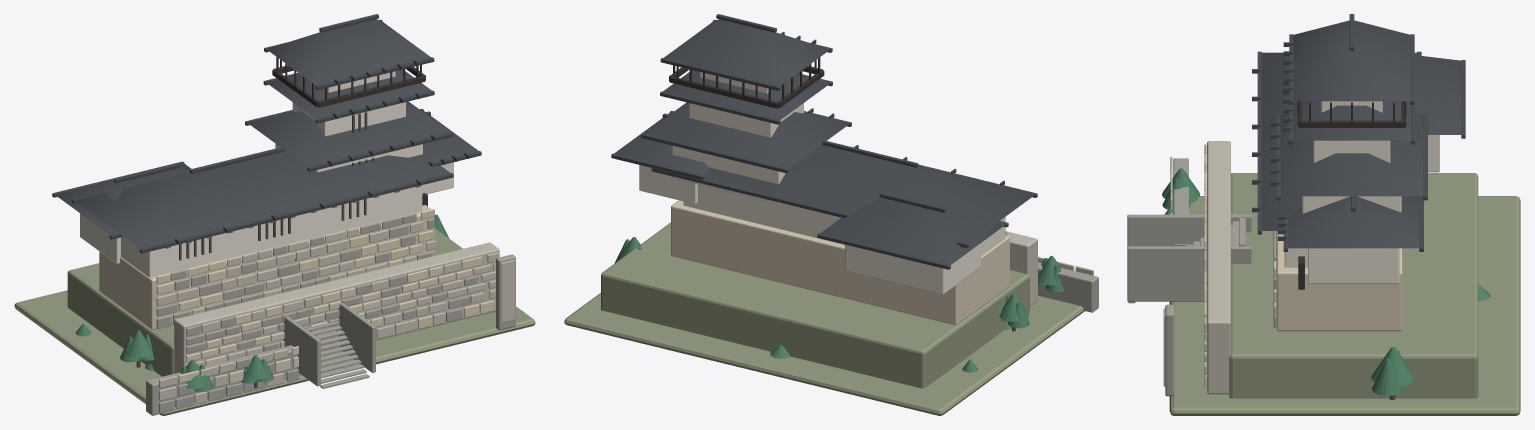
The model's file is iwasaki-current-castle.glb.
3 views of the same model, side by side, from view 1: azimuth 30°, elevation 25°; view 2: azimuth 150°, elevation 25°; view 3: azimuth 270°, elevation 25° (orthographic). The views are drawn at different scales.
Parts seen in each view (by area): view 1: main_long_roof, soft hill platform, front stone retaining mass, main plaster wall, main stone base, observation_roof, tower_lower_roof, upper earth mound, tower_middle_roof, left_wing_roof, main_long_roof_eave_front, left lower stone wall (+13 smaller); view 2: upper earth mound, main stone base, soft hill platform, main_long_roof, observation_roof, left_wing_roof, tower_lower_roof, main plaster wall, left_wing_plaster, tower_middle_roof, right_side_roof, tower_lower_wall (+12 smaller); view 3: upper earth mound, soft hill platform, observation_roof, tower_lower_roof, main stone base, front stone retaining mass, right_side_roof, right_stair_wall, main_long_roof, left_wing_roof, right_side_wall, tower_middle_roof (+16 smaller).
Boxes of the visible parts, x1,y1,x2,y2 form: main_long_roof: (75,151,450,248); soft hill platform: (14,290,535,415); front stone retaining mass: (174,242,499,373); main plaster wall: (121,185,422,277); main stone base: (99,205,434,329); observation_roof: (267,19,430,85); tower_lower_roof: (247,101,450,166); upper earth mound: (67,228,462,376); tower_middle_roof: (266,69,431,118); left_wing_roof: (55,163,191,234); main_long_roof_eave_front: (139,173,453,253); left lower stone wall: (146,345,301,415); upper earth mound: (601,222,1029,388); main stone base: (671,200,1009,325); soft hill platform: (564,293,1084,415); main_long_roof: (704,144,1034,243); observation_roof: (664,19,829,86); left_wing_roof: (820,197,1005,264); tower_lower_roof: (644,102,848,168); main plaster wall: (683,184,1005,256); left_wing_plaster: (845,243,980,294); tower_middle_roof: (663,70,830,119); right_side_roof: (614,112,708,175); tower_lower_wall: (672,145,785,204); upper earth mound: (1229,173,1478,398); soft hill platform: (1169,196,1520,415); observation_roof: (1293,20,1410,101); tower_lower_roof: (1280,113,1423,196); main stone base: (1276,231,1402,331); front stone retaining mass: (1207,141,1230,394); right_side_roof: (1288,196,1419,248); right_stair_wall: (1127,246,1251,301); main_long_roof: (1261,52,1417,230); left_wing_roof: (1414,55,1461,134); right_side_wall: (1308,248,1399,283); tower_middle_roof: (1293,101,1410,140).
Size of the model in its own units: 9.29 by 6.32 by 6.95.
